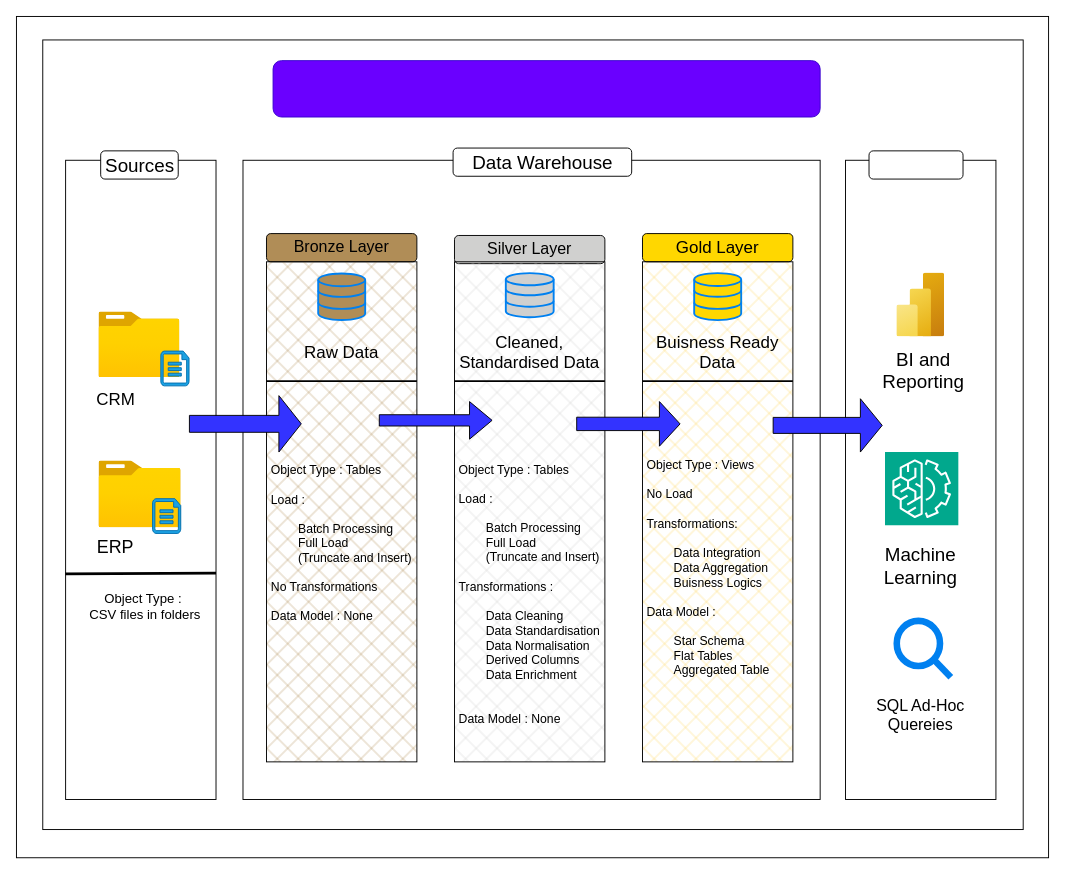
This 1065x874 diagram has some shape labels left out. The shapes that lost their labels are listed below. From the top down, each one's centre as x and y in pixels, then its label:
At point (546, 88): "Data Architecture".
At point (915, 164): "Consume".
